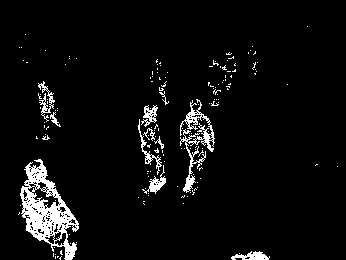person: (18, 158, 80, 260), (180, 99, 216, 196), (138, 105, 168, 194), (37, 80, 62, 141)
